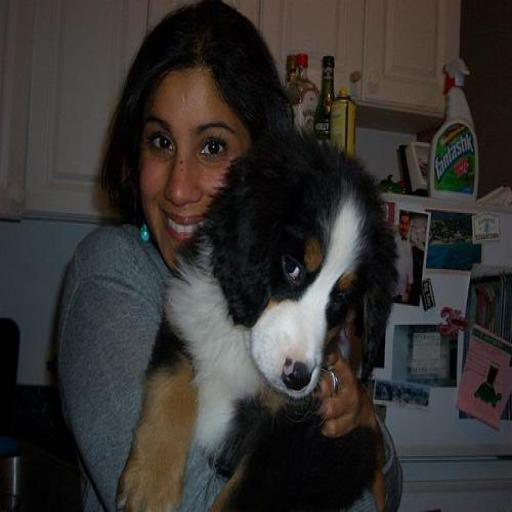dog_face: (223, 146, 411, 392)
